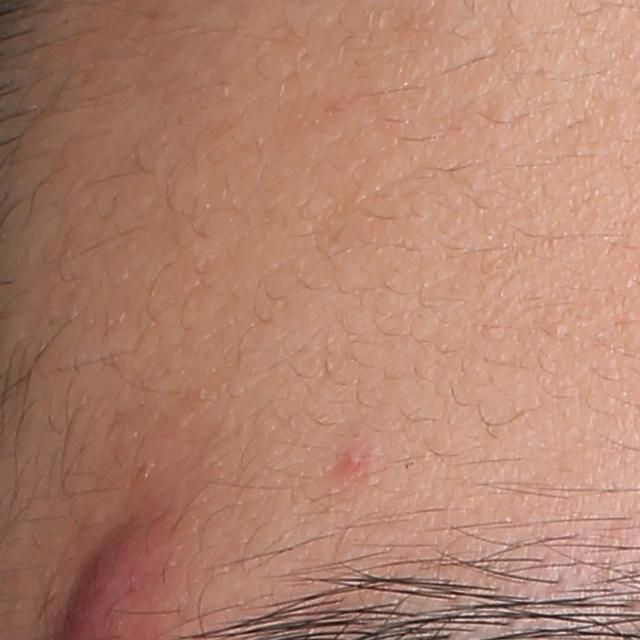papule: (335, 446, 371, 479)
